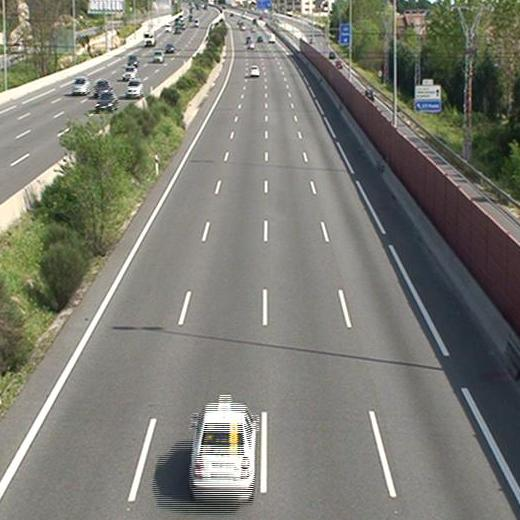car: (188, 398, 258, 495), (247, 63, 261, 79)
